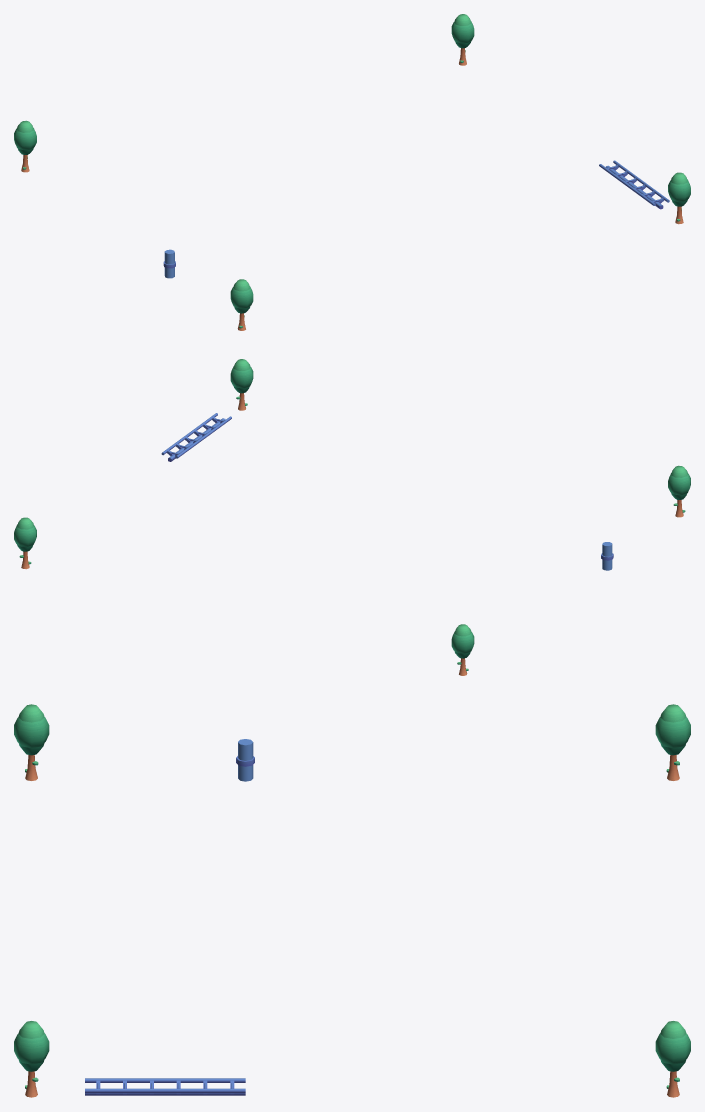
File: gardens-6-3.glb
The picture shows the model from 3 angles, top to bottom: view 1: azimuth 30°, elevation 25°; view 2: azimuth 150°, elevation 25°; view 3: azimuth 270°, elevation 25°; orthographic projection. The views are drawn at different scales.
Visible parts, largest first — view 1: gardens-6-3; view 2: gardens-6-3; view 3: gardens-6-3.
Part boxes in pixels (x1=…): gardens-6-3: x1=14, y1=14, x2=690, y2=330; gardens-6-3: x1=14, y1=359, x2=690, y2=675; gardens-6-3: x1=14, y1=704, x2=690, y2=1097.
Bounding box in the file's own units: 117 × 11.76 × 101.
Materials: 6 (6 with a texture image).
